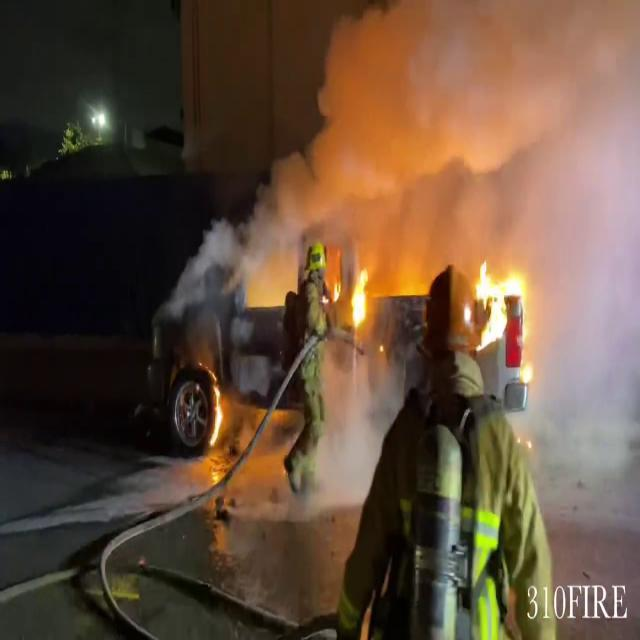Fire: (462, 254, 536, 374), (348, 260, 373, 336), (206, 366, 228, 449)
Smoke: (255, 1, 640, 251)
